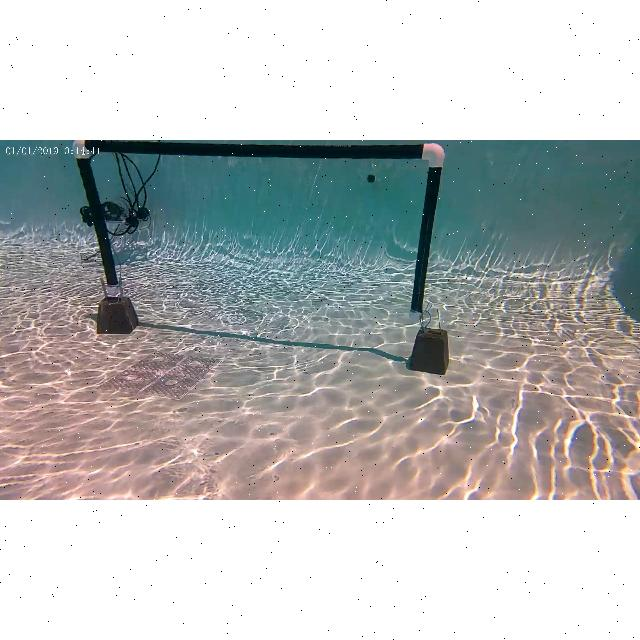prequal gate: (74, 140, 446, 322)
prequal gate leg l: (70, 140, 128, 288)
prequal gate leg r: (413, 141, 445, 311)
